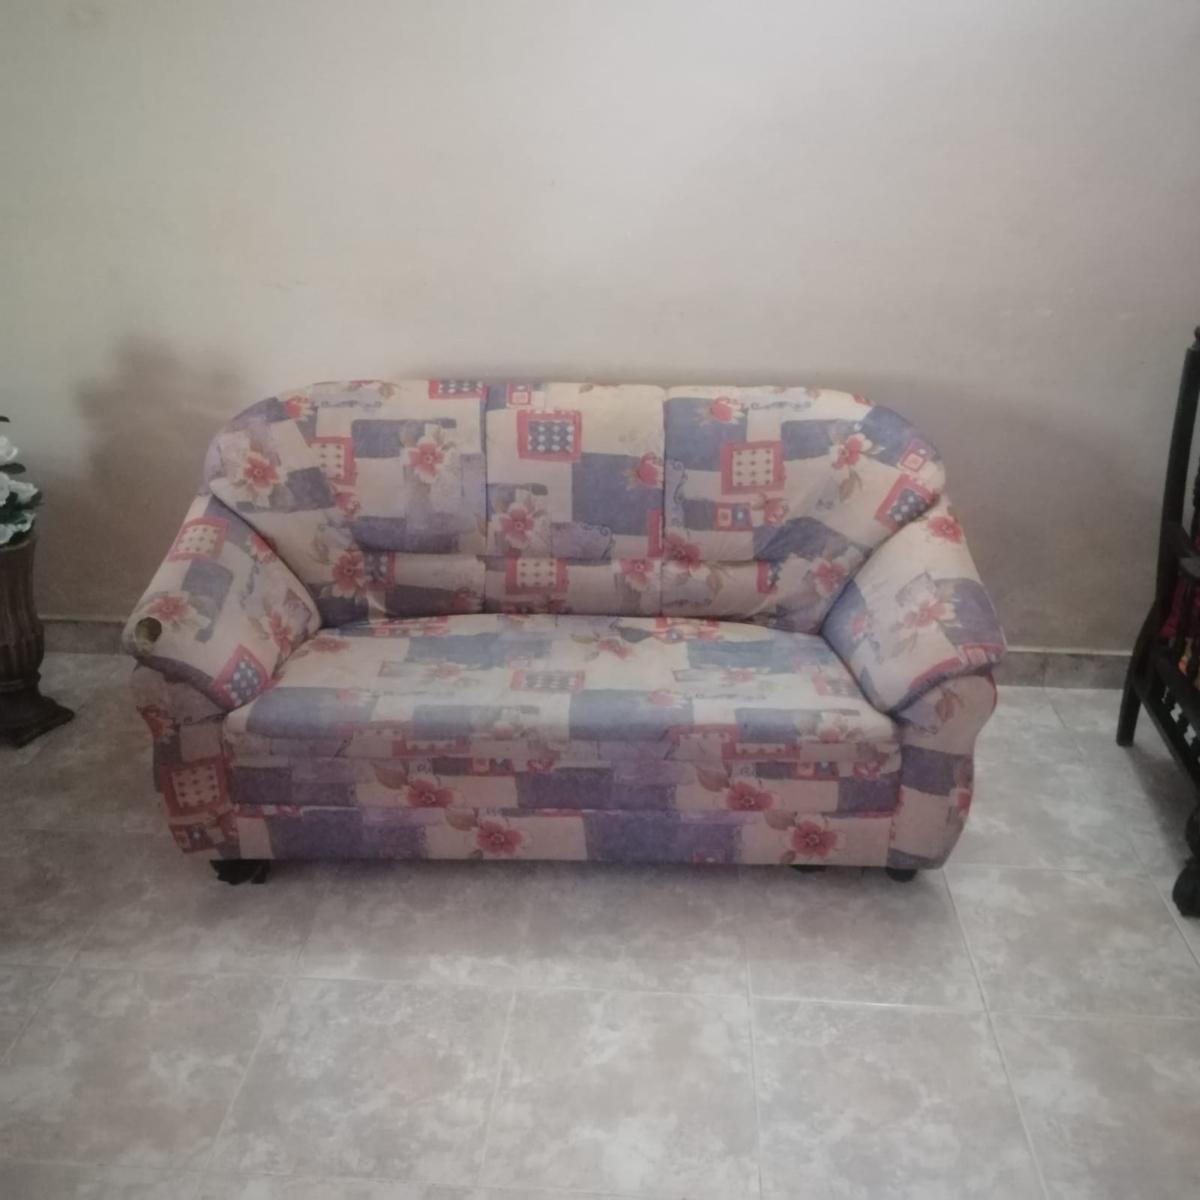Sofa: (122, 374, 1002, 883)
